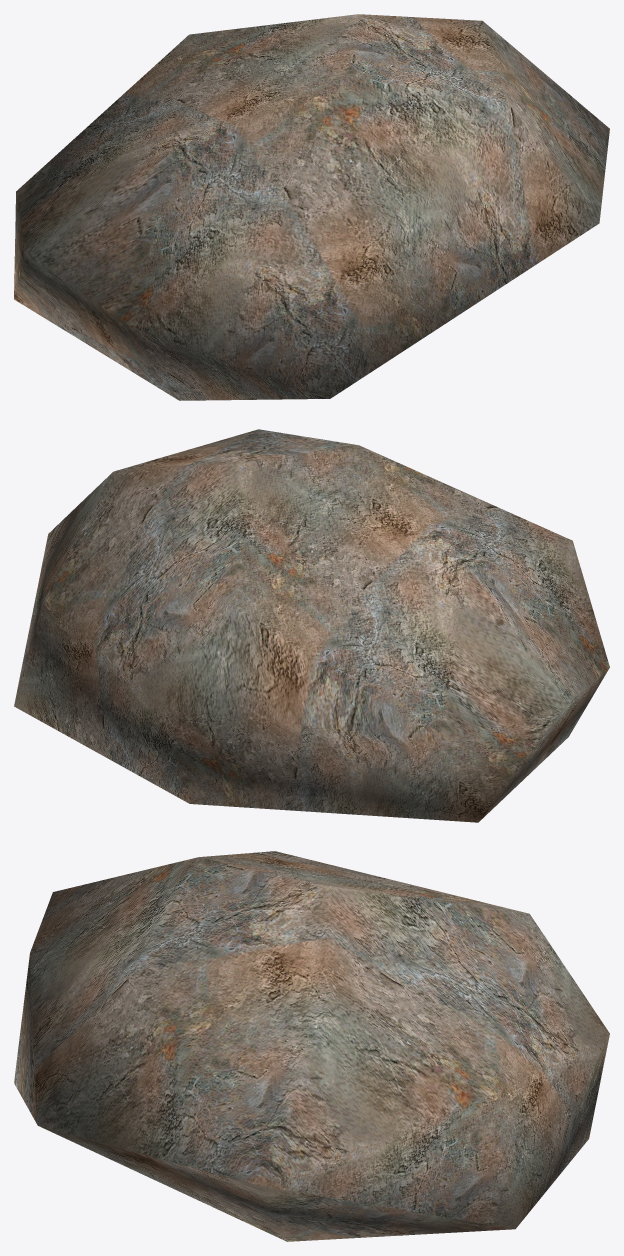
The model's file is rock_forestrock_sm_l0.fbx.
The picture shows the model from 3 angles, top to bottom: view 1: azimuth 30°, elevation 25°; view 2: azimuth 150°, elevation 25°; view 3: azimuth 270°, elevation 25°; orthographic projection. The views are drawn at different scales.
Visible parts, largest first — view 1: mesh_node; view 2: mesh_node; view 3: mesh_node.
Boxes of the visible parts, bbox=[...] form: mesh_node: bbox=[14, 14, 609, 400]; mesh_node: bbox=[14, 429, 609, 822]; mesh_node: bbox=[14, 851, 609, 1241].
Bounding box in the file's own units: 0.6057 × 0.3131 × 0.4845.
